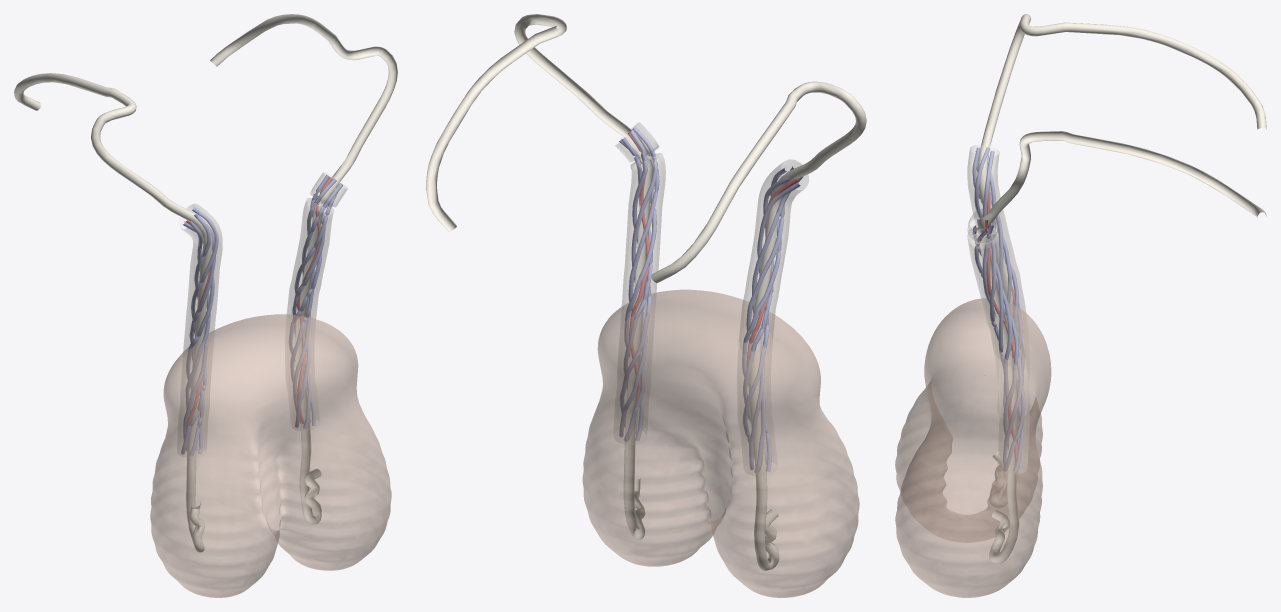
File: anatomyverse-scrotum.glb
The picture shows the model from 3 angles, left to right: view 1: azimuth 30°, elevation 25°; view 2: azimuth 150°, elevation 25°; view 3: azimuth 270°, elevation 25°; orthographic projection. The views are drawn at different scales.
Visible parts, largest first — view 1: scrotum, mc_sheath, mc_ductus, mc_pampiniform, mc_artery; view 2: scrotum, mc_sheath, mc_ductus, mc_pampiniform, mc_artery; view 3: scrotum, mc_ductus, mc_sheath, mc_pampiniform, mc_artery.
Part boxes in pixels (x1,y1,x2,y2): scrotum: (150,314,391,597); mc_sheath: (177,172,347,457); mc_ductus: (14,14,397,552); mc_pampiniform: (181,174,342,455); mc_artery: (185,177,332,430); scrotum: (582,289,859,597); mc_sheath: (613,122,808,475); mc_ductus: (426,14,866,570); mc_pampiniform: (619,126,803,473); mc_artery: (628,132,798,471); scrotum: (895,298,1051,597); mc_ductus: (977,14,1266,563); mc_sheath: (967,145,1029,473); mc_pampiniform: (972,147,1025,471); mc_artery: (985,161,1018,468).
Bounding box in the file's own units: 0.1123 × 0.1694 × 0.117.
